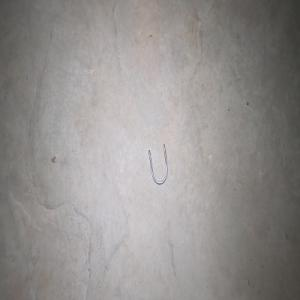ClampPart: (148, 143, 168, 185)
